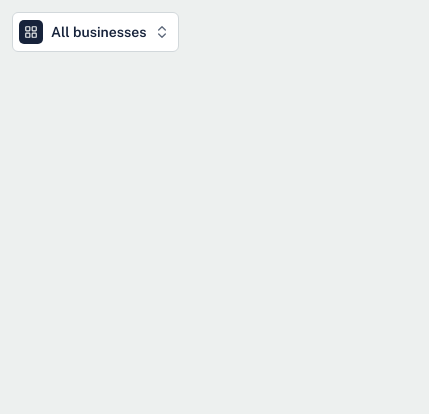
Test case: BusinessSwitcher › closes once the owner picks a business
This screenshot has width=429, height=414.
Click the button named "Business:": (96, 32) 12,12 -> 179,52
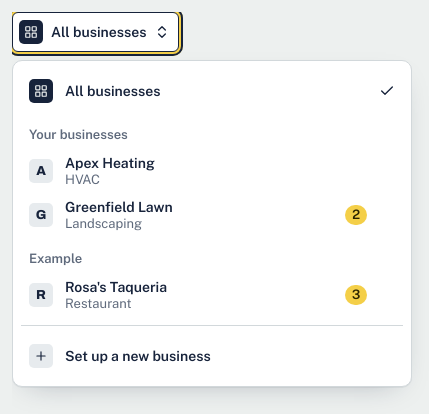
Click the link "A Apex Heating HVAC": (92, 171) 29,155 -> 155,187
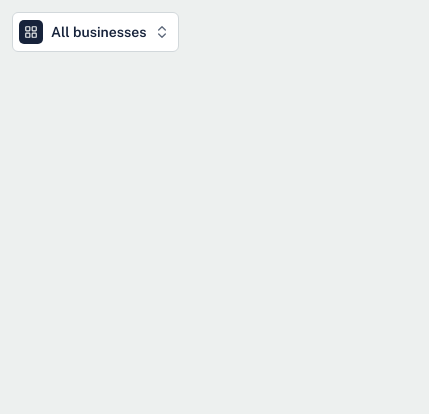
Expected: the button named "Business:" is collapsed, 12,12 -> 179,52
